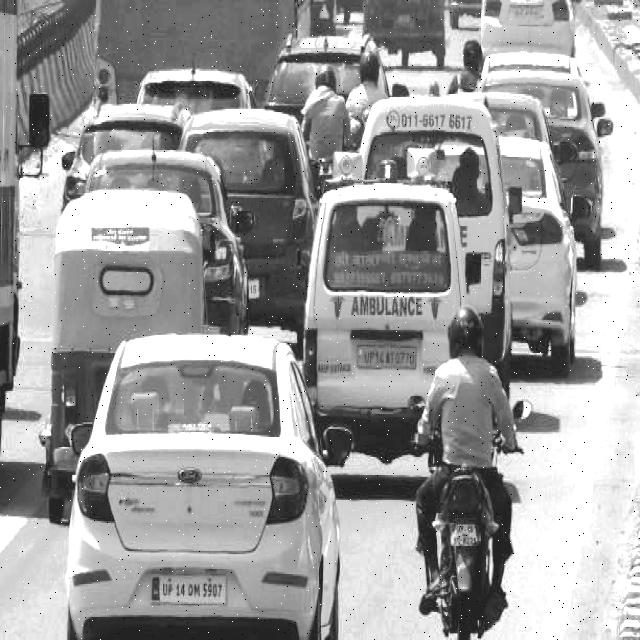Ambulance: (312, 153, 454, 383), (339, 281, 428, 344), (419, 77, 449, 106)
